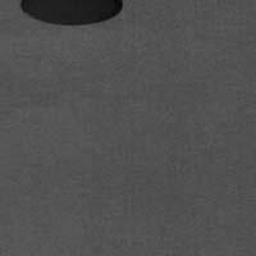Punching: (20, 0, 123, 26)
